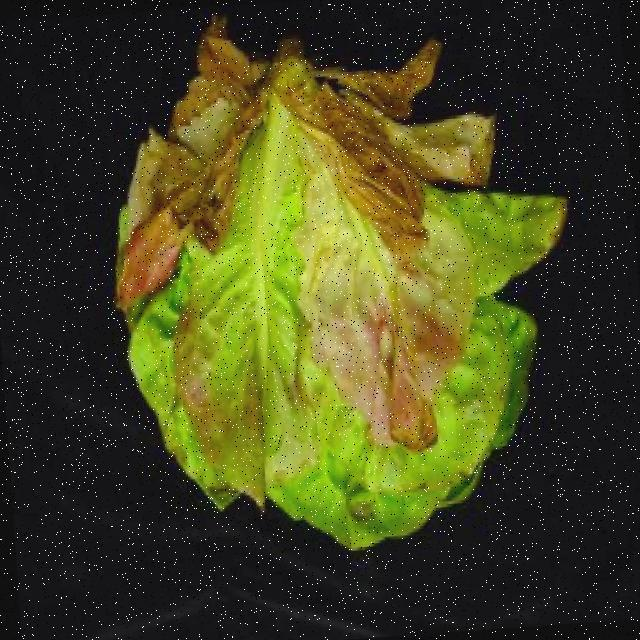Downy_Mildew: (102, 21, 537, 559)
